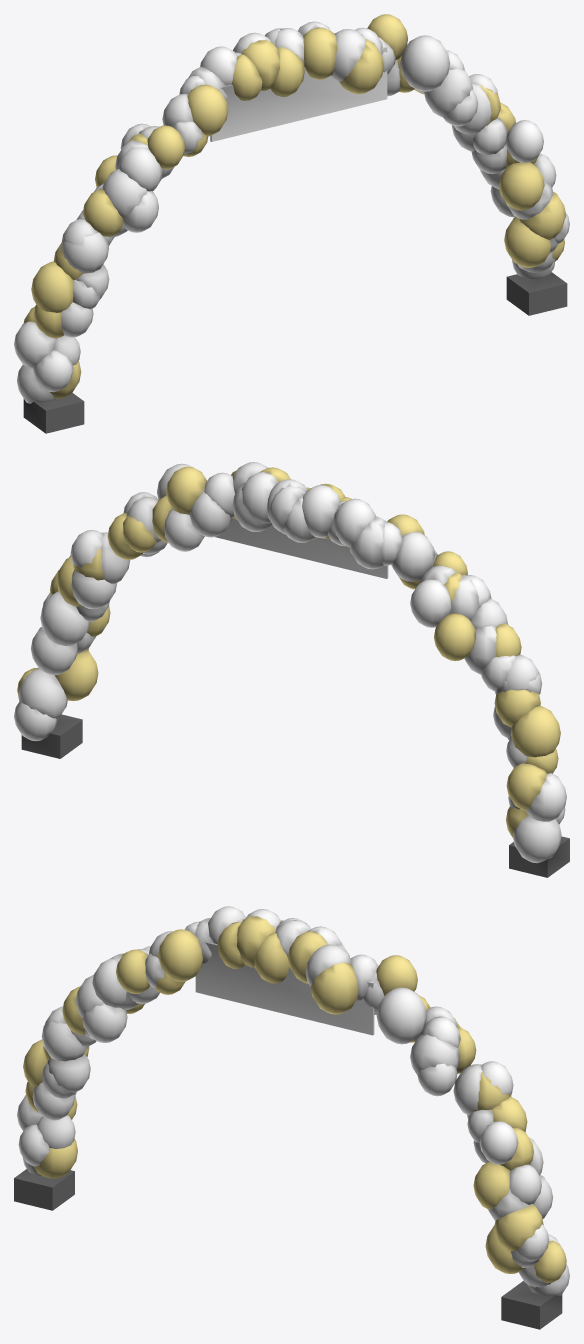
Rendered from pr_balloon.glb.
The picture shows the model from 3 angles, top to bottom: view 1: azimuth 30°, elevation 25°; view 2: azimuth 150°, elevation 25°; view 3: azimuth 330°, elevation 25°; orthographic projection.
Parts seen in each view (by area): view 1: body, sign_card; view 2: body, sign_card; view 3: body, sign_card.
Part boxes in pixels (box(x1,y1,x2,y2)): body: box(14, 14, 569, 433); sign_card: box(210, 46, 387, 141); body: box(14, 462, 569, 877); sign_card: box(215, 517, 388, 578); body: box(14, 906, 569, 1329); sign_card: box(195, 942, 374, 1035).
Bounding box in the file's own units: 4.94 × 2.87 × 0.715.
